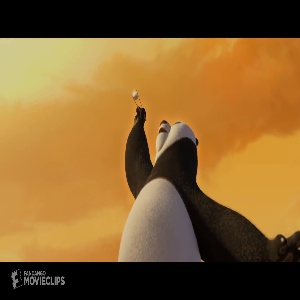po: (112, 86, 299, 262)
